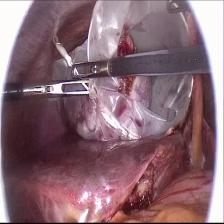Grasper: (25, 75, 96, 103), (69, 59, 119, 83), (166, 0, 196, 19)
Specimen Bag: (53, 0, 207, 146)
